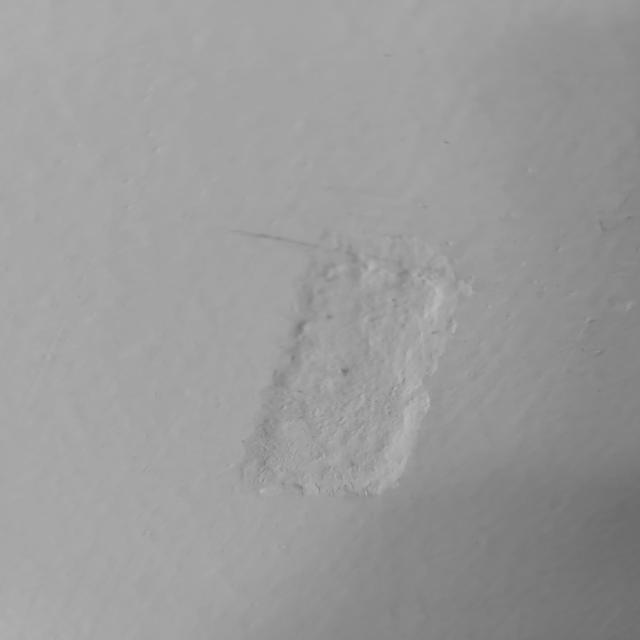rough and patchy surface: (228, 239, 482, 516), (511, 187, 640, 461)
